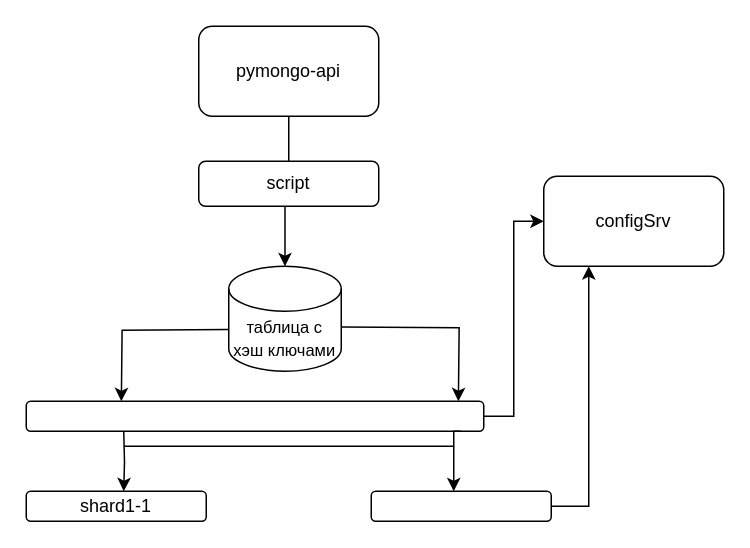
The diagram is 750 pixels wide and 548 high, and some of its shapes have lost their labels. Here are the shapes that lost their labels. From the top down, the box of each, then its label:
(25, 400, 484, 431): rout
(370, 490, 551, 521): shard1-2
